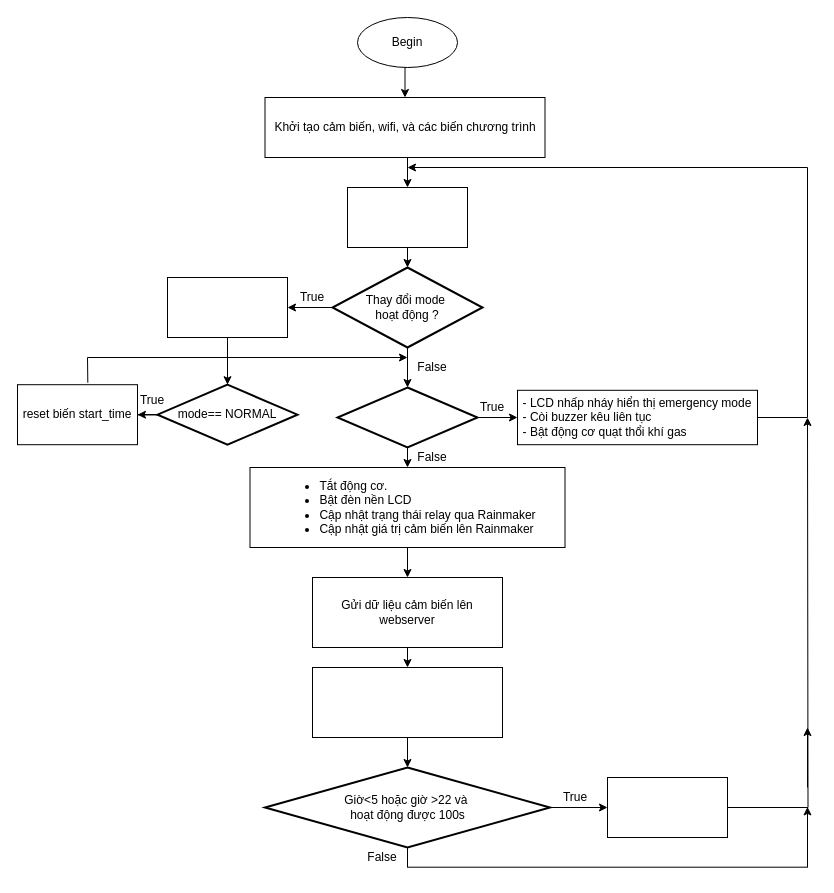
Some shapes in this 834 by 893 pixel diagram are drawn without their labels. Each missing label, with the centre of its shape:
Hiển thị thời gian thực và giá trị cảm biến nhiệt độ, độ ẩm không khí trên LCD: (x=407, y=702)
MQ2_value>700 ?: (x=407, y=417)
Ngủ sâu trong vòng 5s rồi dậy: (x=667, y=807)
Xóa màn hình LCD và cập nhật trạng thái: (x=227, y=307)
Đọc giá trị cảm biến, lấy thời gian trên server.: (x=407, y=217)
